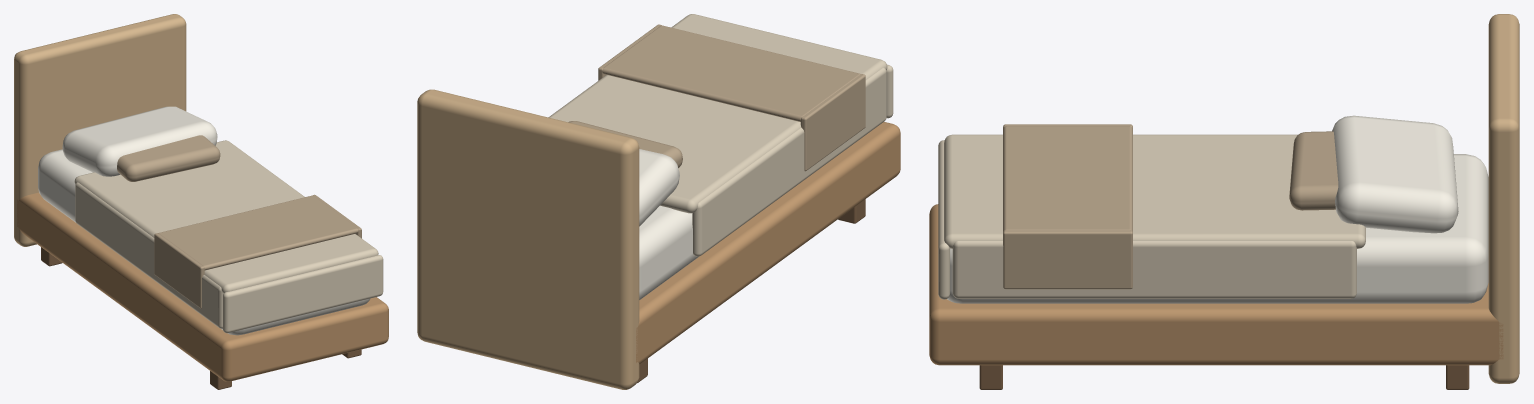
File: singleBed.glb
3 renders of one model, left to right at view 1: azimuth 30°, elevation 25°; view 2: azimuth 150°, elevation 25°; view 3: azimuth 270°, elevation 25°, orthographic. The views are drawn at different scales.
Visible parts, largest first — view 1: studio/linen, studio/oakLight, studio/oak, studio/sand, studio/cream, studio/oakDark; view 2: studio/oakLight, studio/linen, studio/sand, studio/oak, studio/cream, studio/oakDark; view 3: studio/linen, studio/oak, studio/cream, studio/sand, studio/oakLight, studio/oakDark.
Part boxes in pixels (box(x1,y1,x2,y2)): studio/linen: box(74, 140, 383, 333); studio/oakLight: box(14, 14, 186, 246); studio/oak: box(17, 192, 388, 381); studio/sand: box(117, 135, 361, 308); studio/cream: box(38, 106, 370, 335); studio/oakDark: box(41, 247, 361, 389); studio/oakLight: box(417, 89, 639, 389); studio/linen: box(548, 14, 893, 256); studio/sand: box(568, 24, 865, 171); studio/oak: box(636, 122, 900, 364); studio/cream: box(639, 149, 698, 299); studio/oakDark: box(637, 199, 865, 382); studio/linen: box(938, 134, 1365, 299); studio/oak: box(929, 204, 1503, 365); studio/cream: box(947, 115, 1488, 303); studio/sand: box(1003, 124, 1338, 289); studio/oakLight: box(1488, 14, 1519, 383); studio/oakDark: box(979, 365, 1469, 389).
Bounding box in the file's own units: 0.9 × 1.03 × 2.
